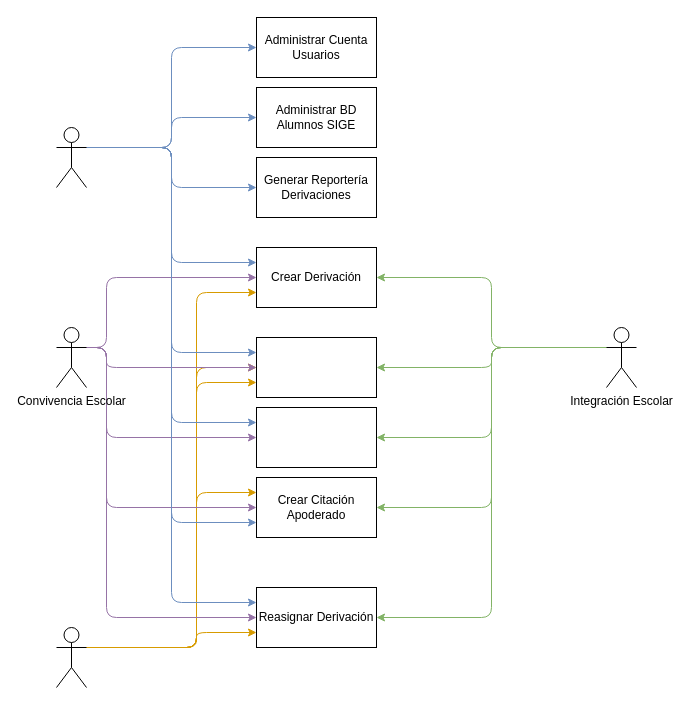
The diagram is 690 pixels wide and 726 high, and some of its shapes have lost their labels. Here are the shapes that lost their labels. From the top down, the centre of each, then its label:
At point 71,157: "Dirección".
At point 316,367: "Consultar Ficha Alumno".
At point 316,437: "Editar Ficha Alumno".
At point 71,657: "Docencia".
